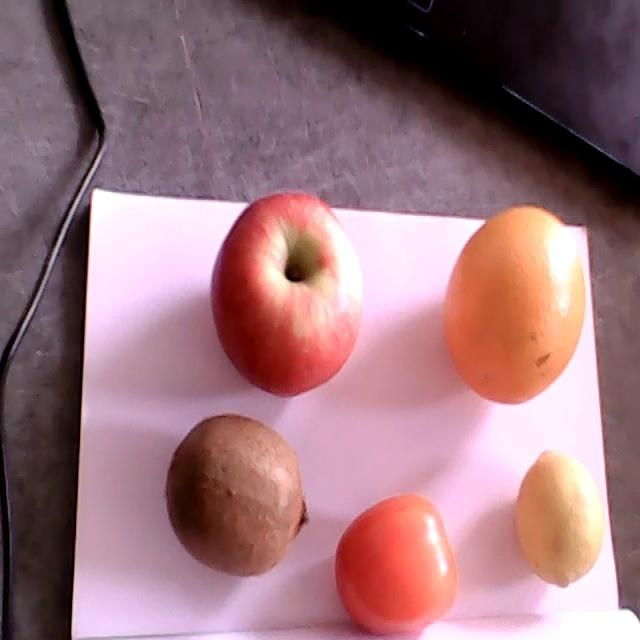apple: (212, 192, 363, 395)
kiwi: (166, 415, 311, 579)
lemon: (516, 451, 604, 589)
orange: (442, 206, 585, 403)
tomato: (335, 493, 457, 634)
